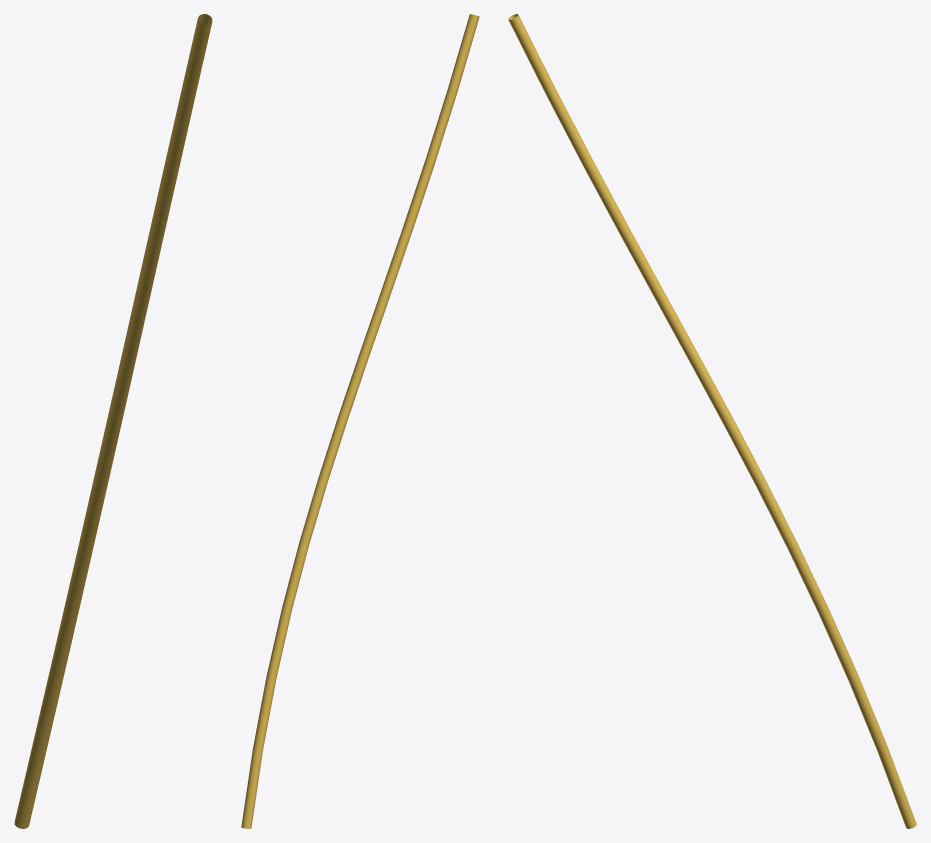
The model's file is Medial_sural_cutaneous_nerve_right.glb.
3 views of the same model, side by side, from view 1: azimuth 30°, elevation 25°; view 2: azimuth 150°, elevation 25°; view 3: azimuth 270°, elevation 25° (orthographic). The views are drawn at different scales.
Visible parts, largest first — view 1: Medial_sural_cutaneous_nerve.r_BezierCurve.506; view 2: Medial_sural_cutaneous_nerve.r_BezierCurve.506; view 3: Medial_sural_cutaneous_nerve.r_BezierCurve.506.
Part boxes in pixels (x1,y1,x2,y2): Medial_sural_cutaneous_nerve.r_BezierCurve.506: (14, 14, 212, 828); Medial_sural_cutaneous_nerve.r_BezierCurve.506: (241, 14, 479, 828); Medial_sural_cutaneous_nerve.r_BezierCurve.506: (508, 14, 916, 828).
Size of the model in its own units: 0.00685 by 0.0749 by 0.0354.
